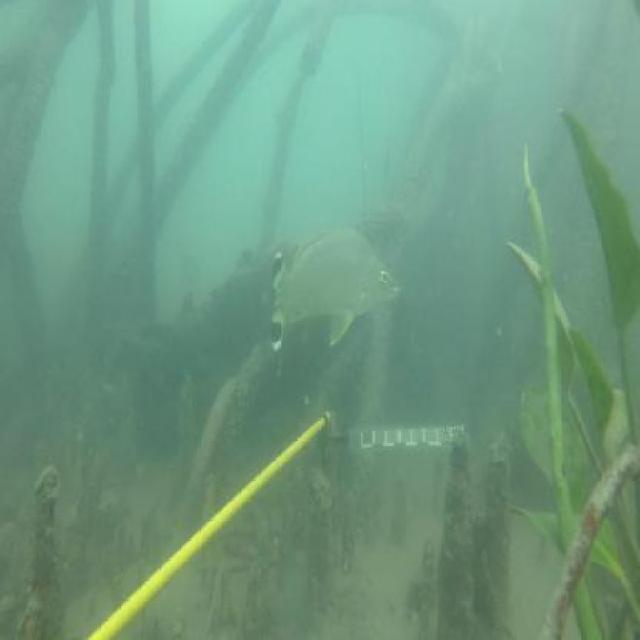Amniataba_caudivittatus: (269, 217, 403, 357)
